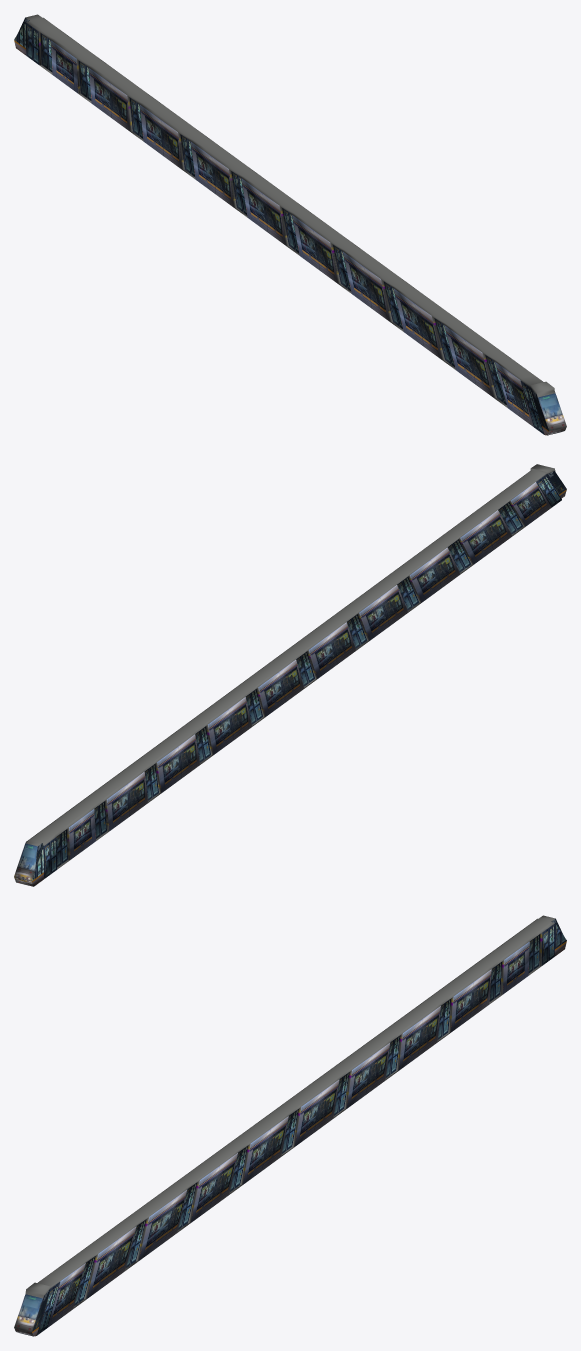
The model's file is tram.gltf.
3 renders of one model, top to bottom at view 1: azimuth 30°, elevation 25°; view 2: azimuth 150°, elevation 25°; view 3: azimuth 330°, elevation 25°, orthographic.
Visible parts, largest first — view 1: Cube; view 2: Cube; view 3: Cube.
Part boxes in pixels (x1=…): Cube: x1=14, y1=14, x2=566, y2=435; Cube: x1=14, y1=464, x2=566, y2=886; Cube: x1=14, y1=915, x2=566, y2=1336.
Size of the model in its own units: 8 by 16.62 by 416.
Materials: 7 (7 with a texture image).
